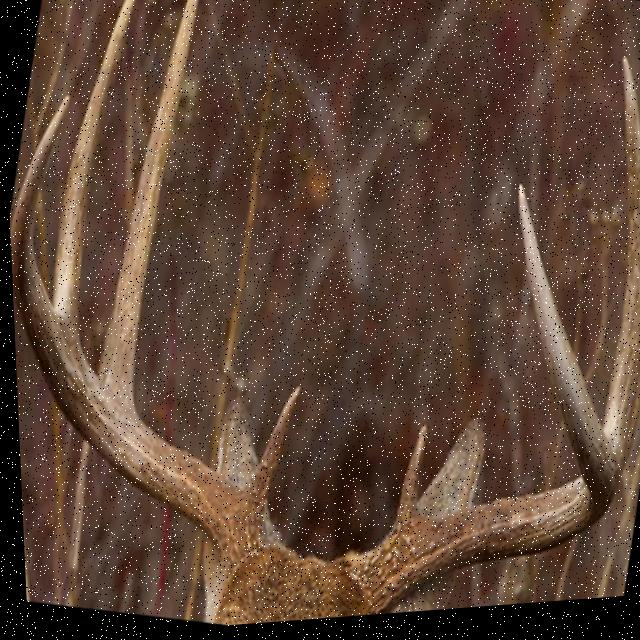L-G1: (243, 388, 298, 512)
L-G2: (94, 0, 200, 402)
L-G3: (49, 0, 136, 330)
R-F: (8, 93, 258, 583), (340, 190, 616, 620)
R-G1: (390, 430, 424, 529)
R-G3: (599, 62, 640, 481)
